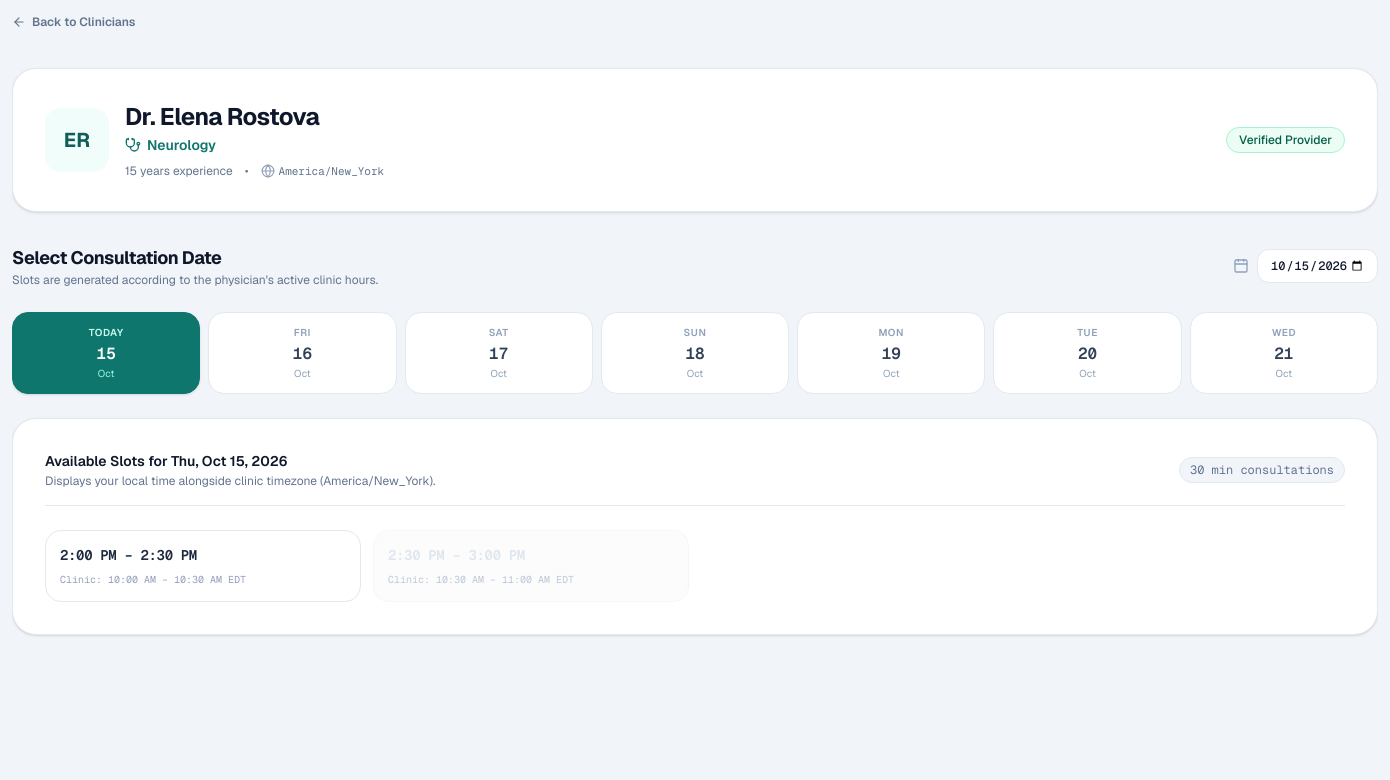
Test: DoctorDetail Component (Screen B3) › renders physician profile and timezone-aware slots
The width and height of the screenshot is (1390, 780).
Expected: the heading "Dr. Elena Rostova" is shown, [125,101,319,132]
Expected: the text "Neurology" is shown, [147,135,216,155]
Click the button "2:00 PM – 2:30 PM Clinic: 10:00 AM – 10:30 AM EDT" at x=128, y=555, box [45,530,361,602]
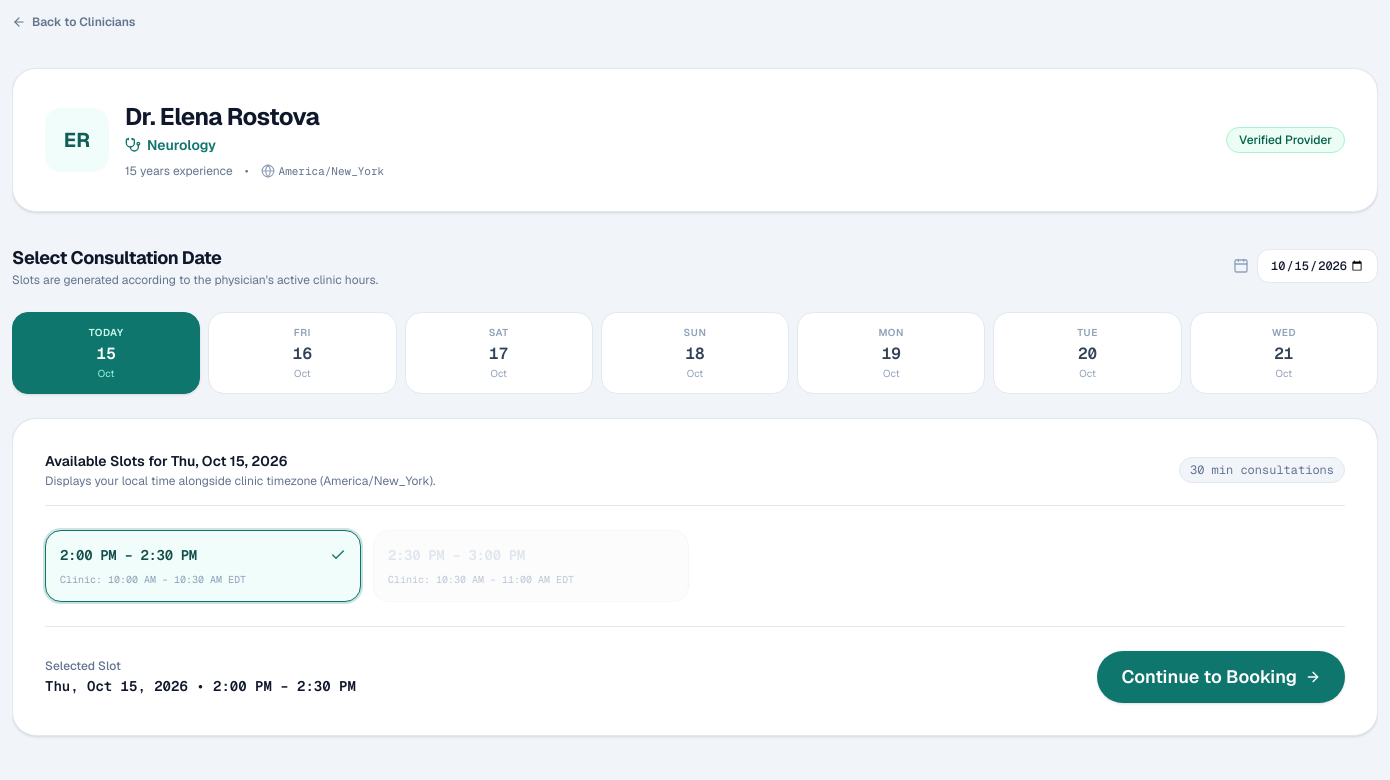
Expected: the text "Continue to Booking" is shown, [1122,663,1297,691]
